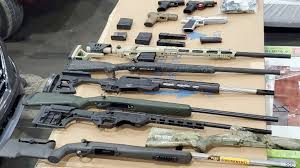gun: (181, 15, 230, 33), (145, 10, 179, 28), (183, 1, 220, 14)
